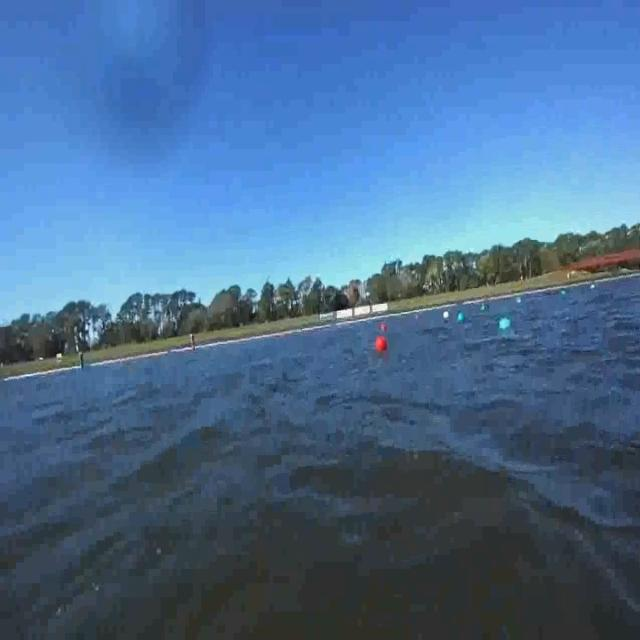green-buoy: (499, 320, 511, 334), (458, 312, 465, 324)
red-buoy: (376, 336, 389, 356)
yellow-buoy: (441, 308, 451, 326)
